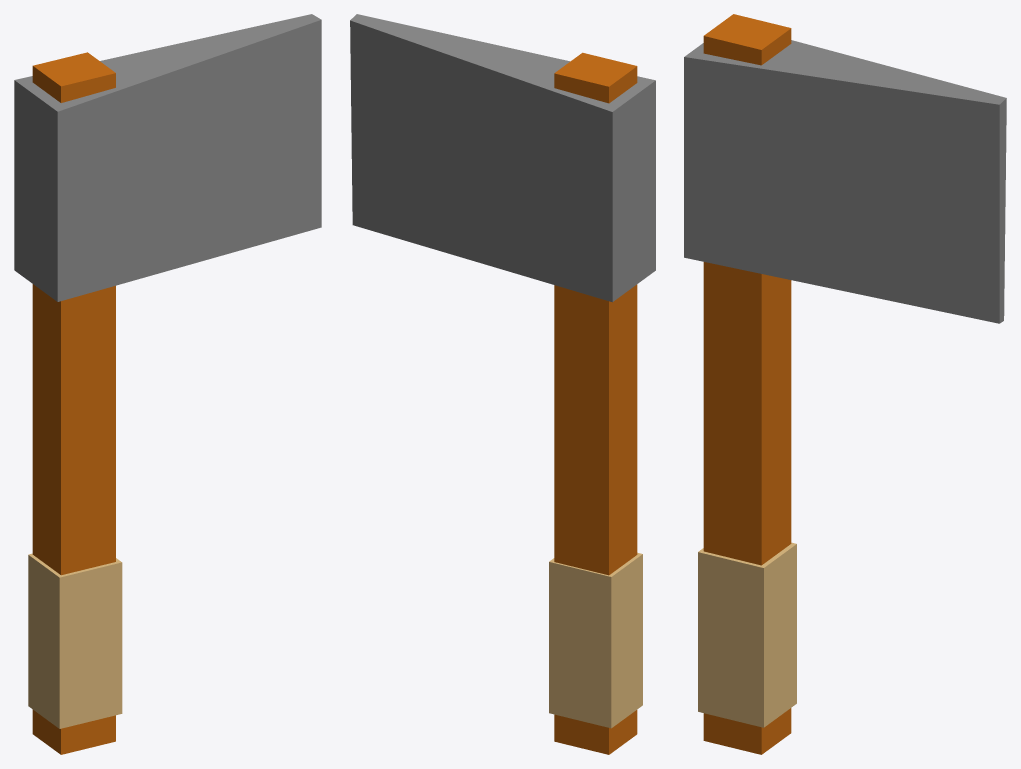
Rendered from Cube Axe.fbx.
3 renders of one model, left to right at view 1: azimuth 30°, elevation 25°; view 2: azimuth 150°, elevation 25°; view 3: azimuth 330°, elevation 25°, orthographic. The views are drawn at different scales.
Visible parts, largest first — view 1: Cube.001, Cube, Cube.002; view 2: Cube.001, Cube, Cube.002; view 3: Cube.001, Cube, Cube.002.
Boxes of the visible parts, left/top/right/bottom form: Cube.001: left=14, top=14, right=321, bottom=301; Cube: left=32, top=52, right=115, bottom=754; Cube.002: left=28, top=553, right=122, bottom=728; Cube.001: left=350, top=14, right=655, bottom=302; Cube: left=554, top=52, right=637, bottom=754; Cube.002: left=549, top=552, right=642, bottom=728; Cube.001: left=684, top=40, right=1006, bottom=323; Cube: left=703, top=14, right=791, bottom=754; Cube.002: left=698, top=542, right=796, bottom=727.
Size of the model in its own units: 389 by 883 by 104.
